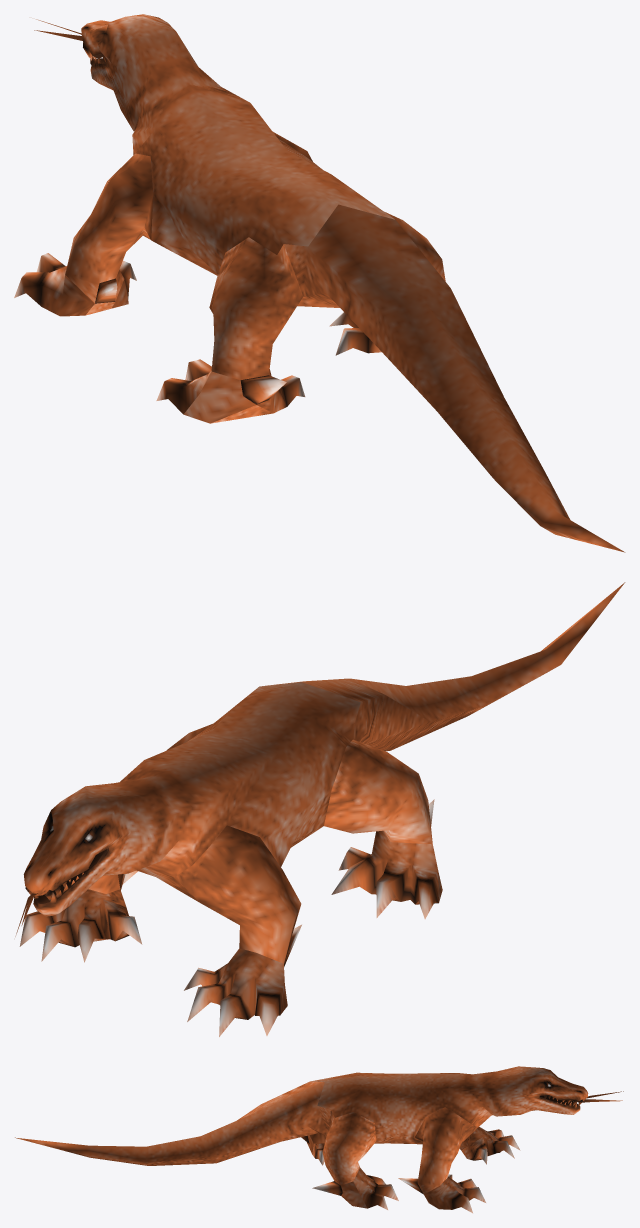
The model's file is salamander2.obj.
3 views of the same model, one above another, from view 1: azimuth 30°, elevation 25°; view 2: azimuth 150°, elevation 25°; view 3: azimuth 270°, elevation 25° (orthographic). The views are drawn at different scales.
Visible parts, largest first — view 1: material_1; view 2: material_1; view 3: material_1.
Part boxes in pixels (x1,y1,x2,y2): material_1: (14, 14, 625, 552); material_1: (15, 582, 625, 1036); material_1: (15, 1066, 623, 1213).
Size of the model in its own units: 103 by 73.18 by 358.
Materials: 1 (1 with a texture image).
